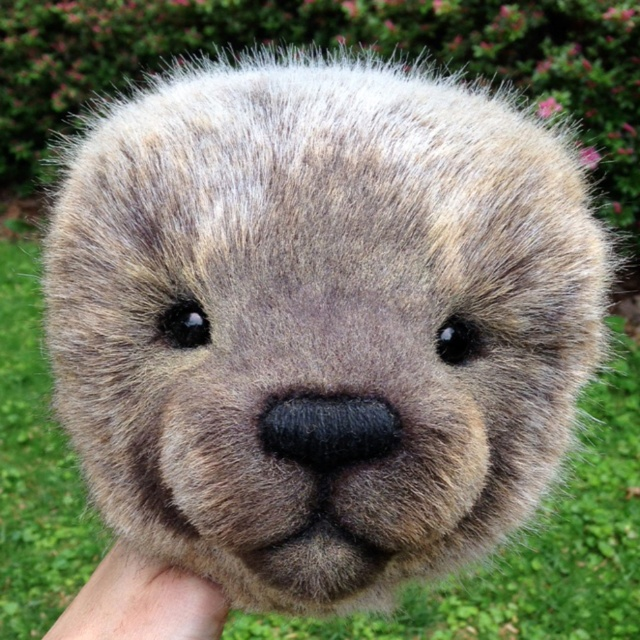Otter: (3, 30, 619, 627)
